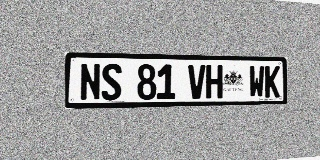1: (157, 64, 175, 100)
8: (137, 64, 156, 100)
H: (206, 65, 223, 99)
K: (265, 66, 280, 98)
N: (80, 63, 101, 101)
S: (101, 64, 122, 101)
V: (188, 65, 205, 99)
W: (249, 66, 264, 98)
